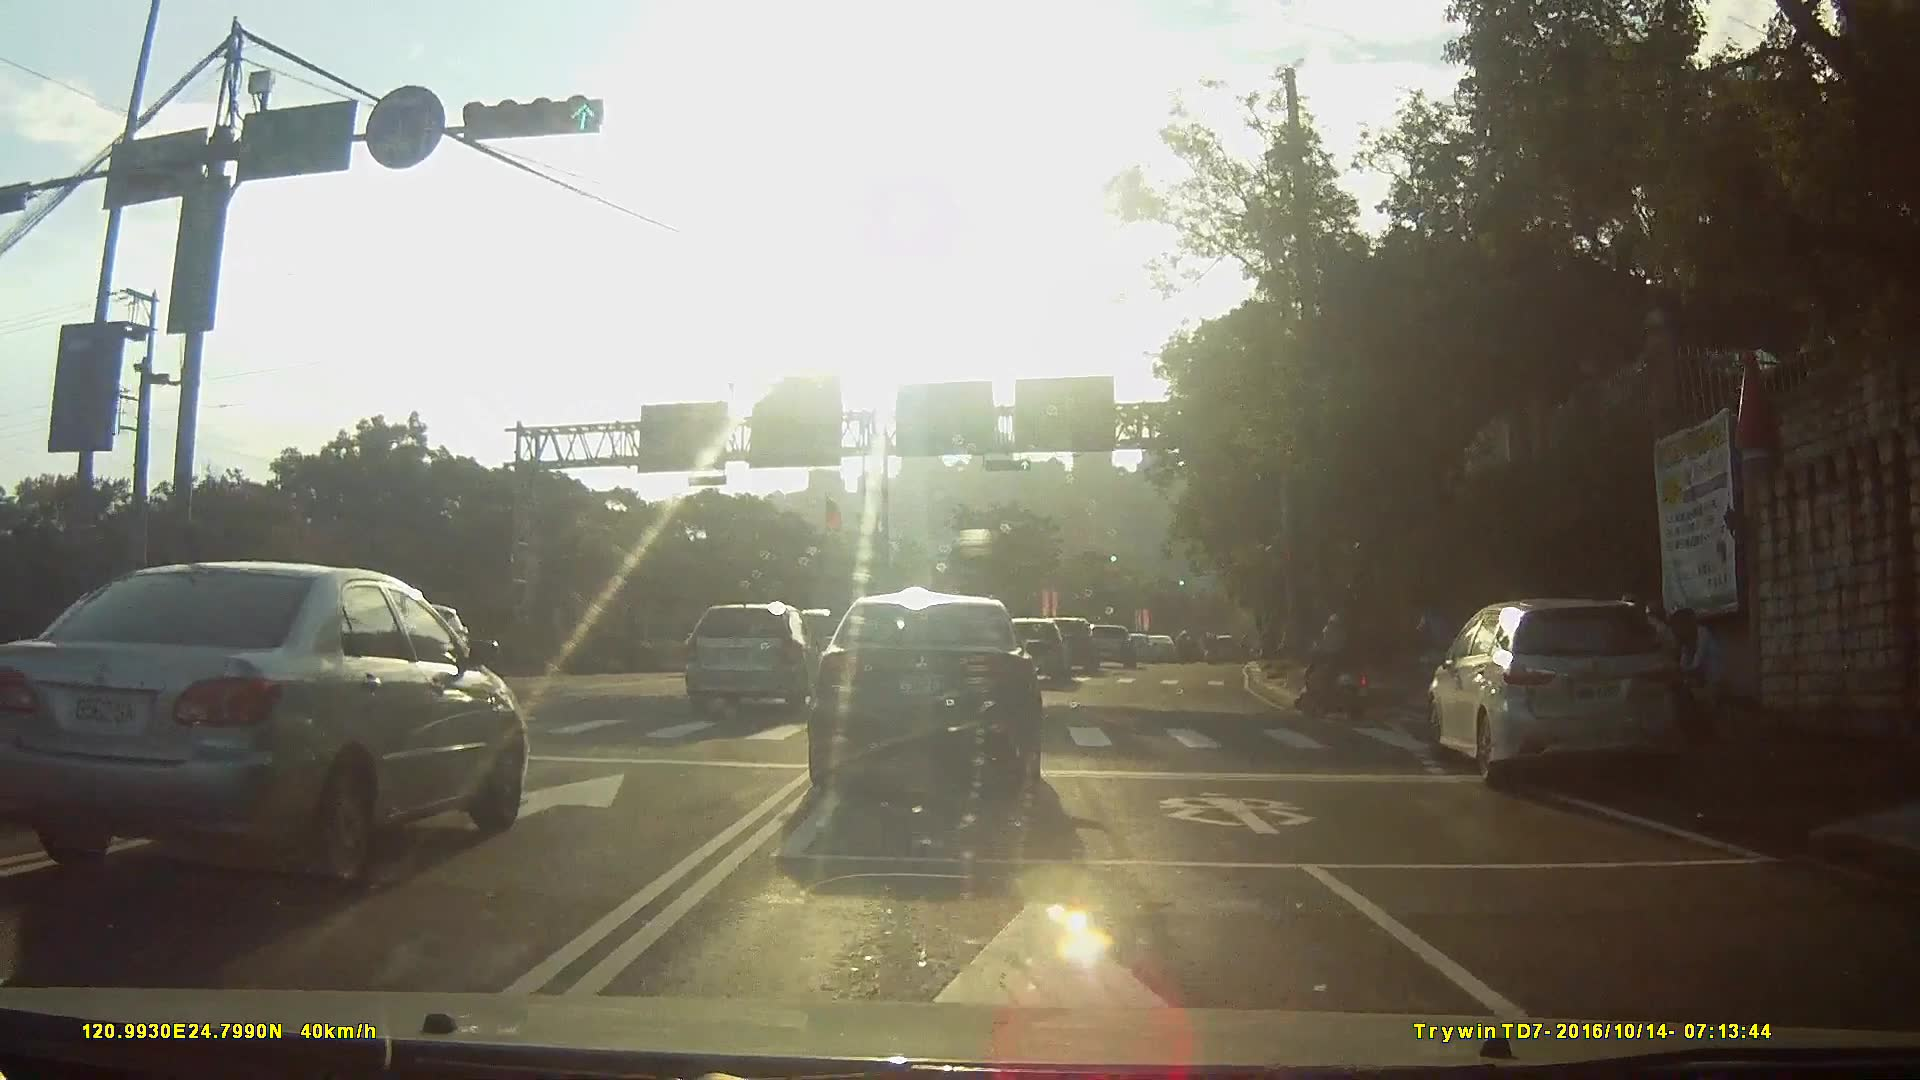pedestrian: (1674, 607, 1739, 727)
rider: (1295, 611, 1383, 720)
vehicle: (0, 564, 544, 889), (1416, 599, 1708, 806), (799, 597, 1067, 816), (101, 578, 300, 800), (697, 604, 844, 718), (1016, 621, 1090, 691), (1050, 620, 1112, 678), (1094, 627, 1149, 673), (1128, 635, 1167, 667), (1156, 639, 1189, 667)
